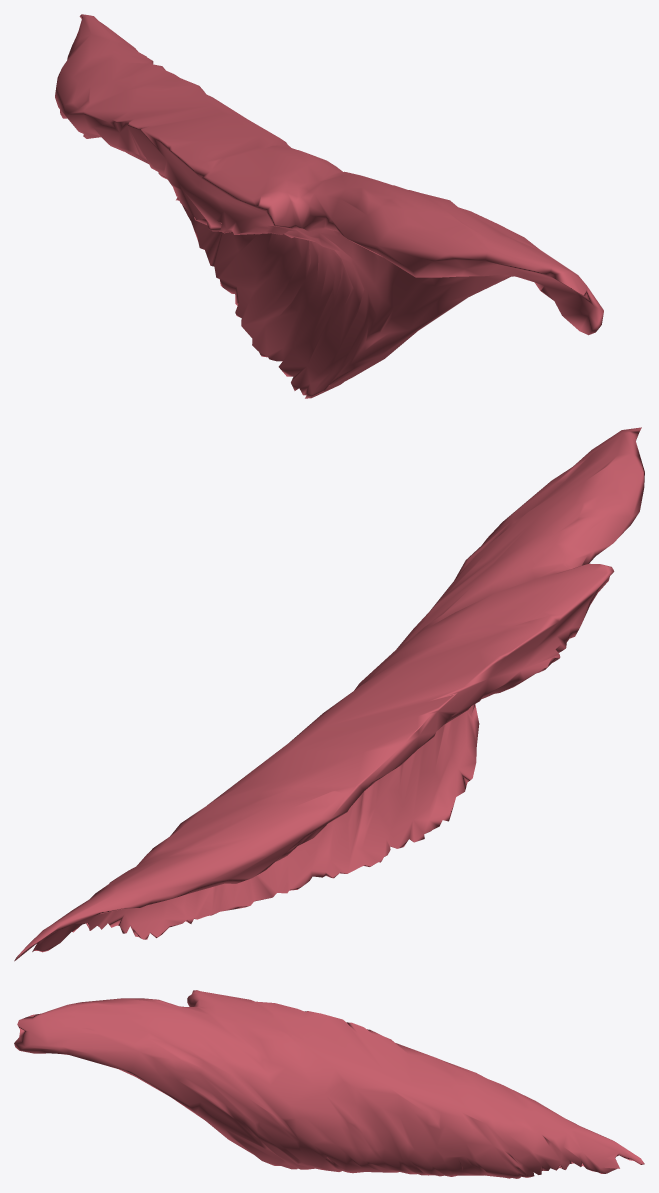
3 views of the same model, one above another, from view 1: azimuth 30°, elevation 25°; view 2: azimuth 150°, elevation 25°; view 3: azimuth 270°, elevation 25° (orthographic). The views are drawn at different scales.
Parts seen in each view (by area): view 1: 左侧旋后肌; view 2: 左侧旋后肌; view 3: 左侧旋后肌.
Boxes of the visible parts, box(x1,y1,x2,y2) form: 左侧旋后肌: box(55, 14, 603, 398); 左侧旋后肌: box(14, 427, 644, 961); 左侧旋后肌: box(14, 990, 644, 1178).
Bounding box in the file's own units: 0.0485 × 0.0525 × 0.1885.
